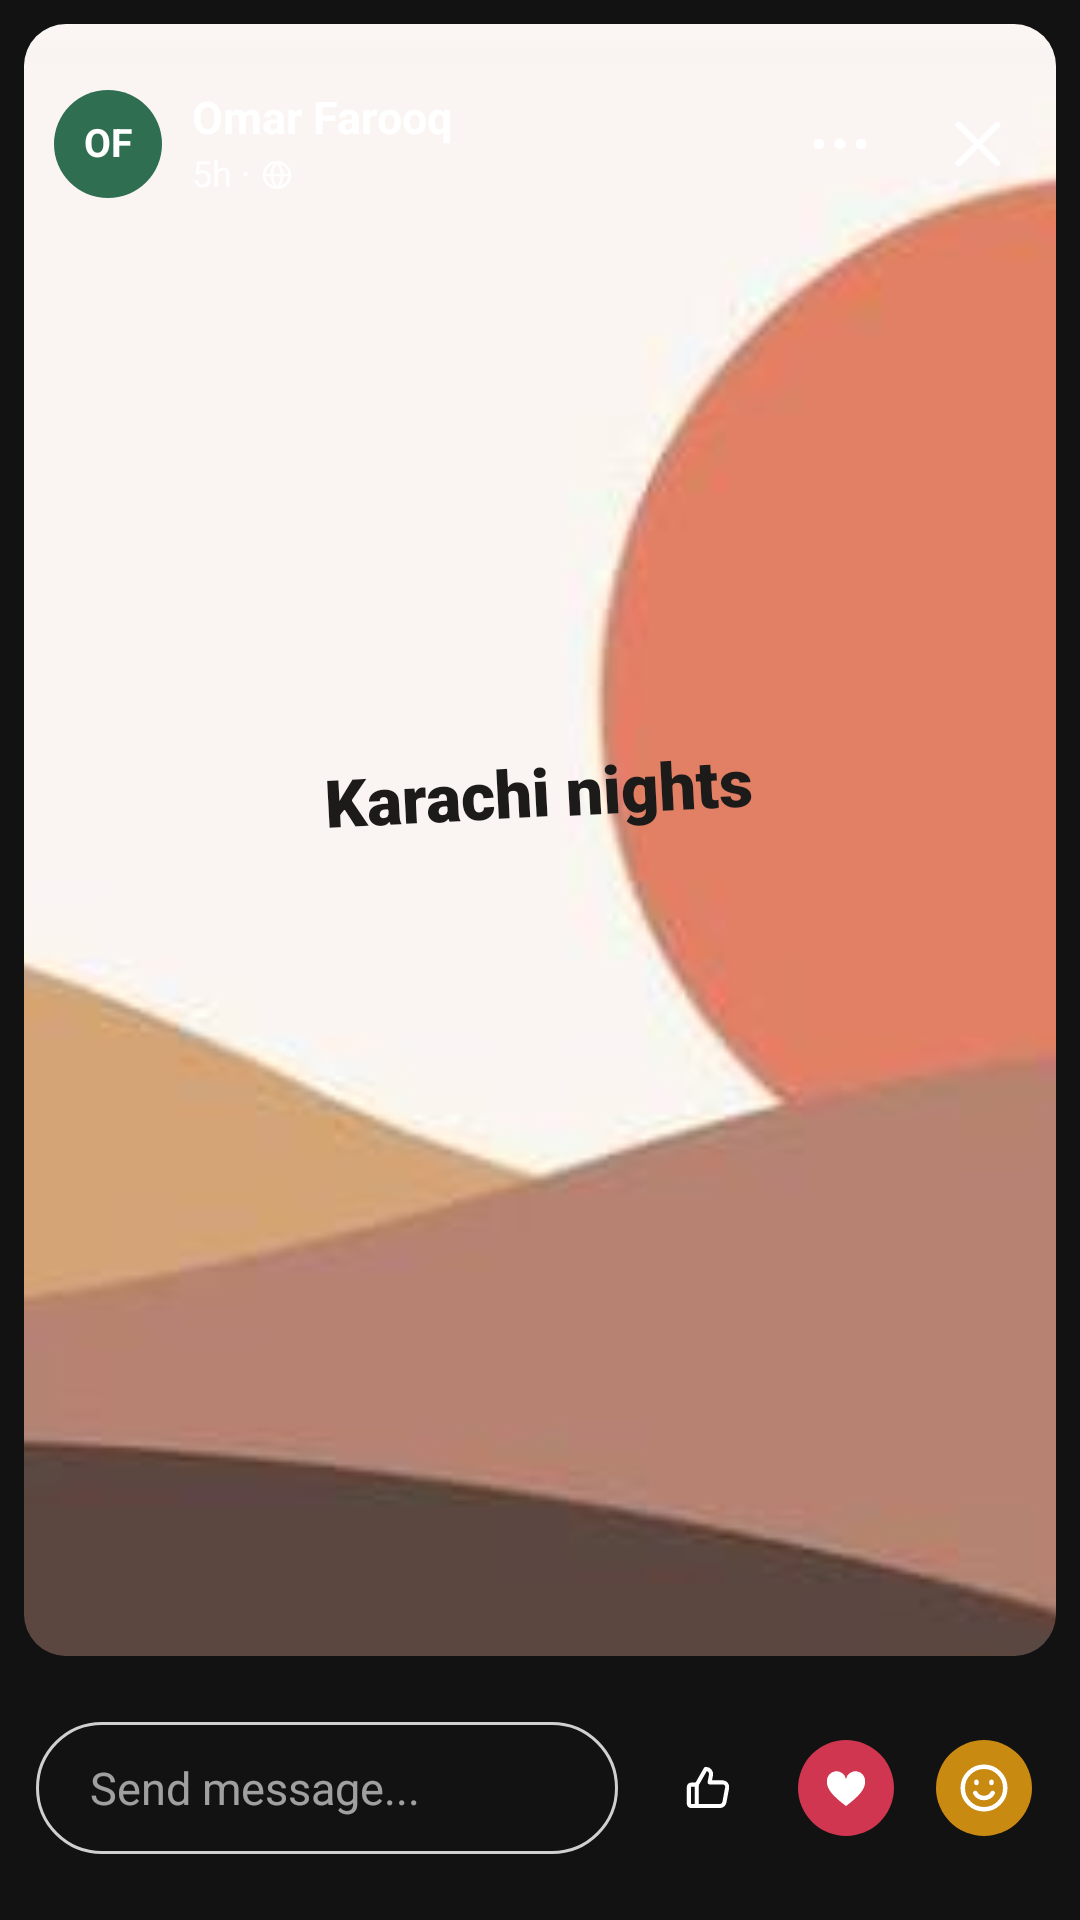

Screen size 1080 × 1920. Icon name, then its box in pixels as region(x1, y1, x2, y2):
Haha: region(936, 1740, 1032, 1836)
Like: region(686, 1767, 729, 1808)
Love: region(798, 1740, 894, 1836)
